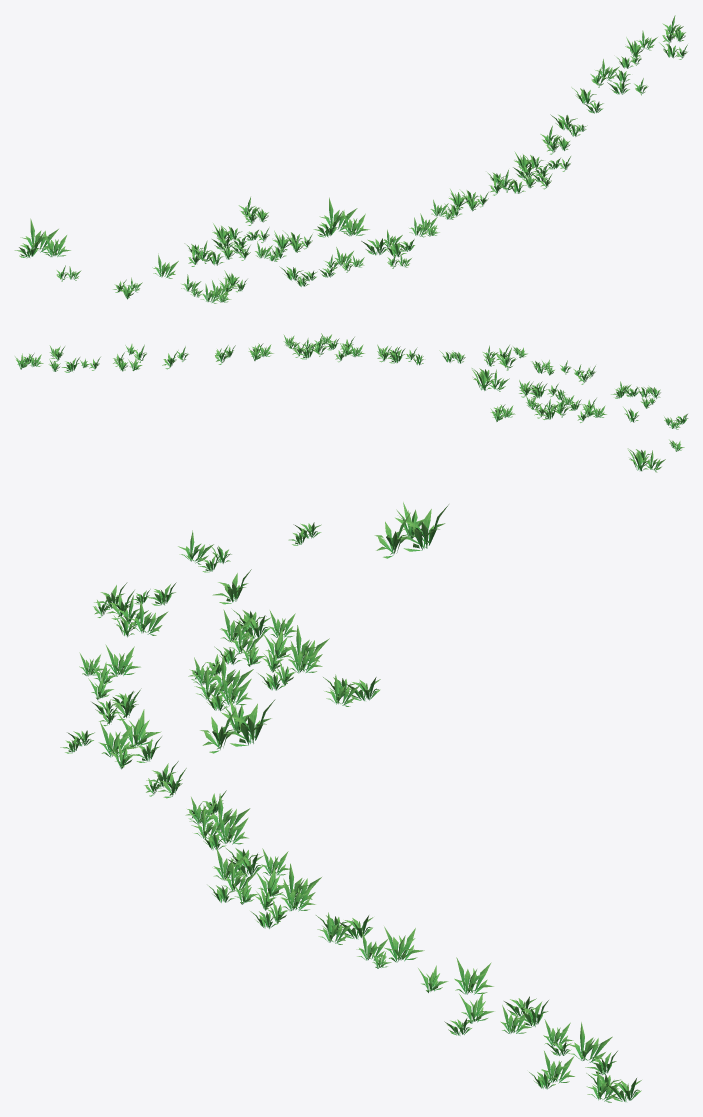
The model's file is area_06_11.fbx.
3 views of the same model, one above another, from view 1: azimuth 30°, elevation 25°; view 2: azimuth 150°, elevation 25°; view 3: azimuth 270°, elevation 25° (orthographic). The views are drawn at different scales.
Visible parts, largest first — view 1: area_06_11; view 2: area_06_11; view 3: area_06_11.
Part boxes in pixels (bbox=[...]): area_06_11: bbox=[14, 15, 687, 303]; area_06_11: bbox=[15, 333, 688, 472]; area_06_11: bbox=[60, 502, 641, 1102].
Bounding box in the file's own units: 44.73 × 1.64 × 18.97.
